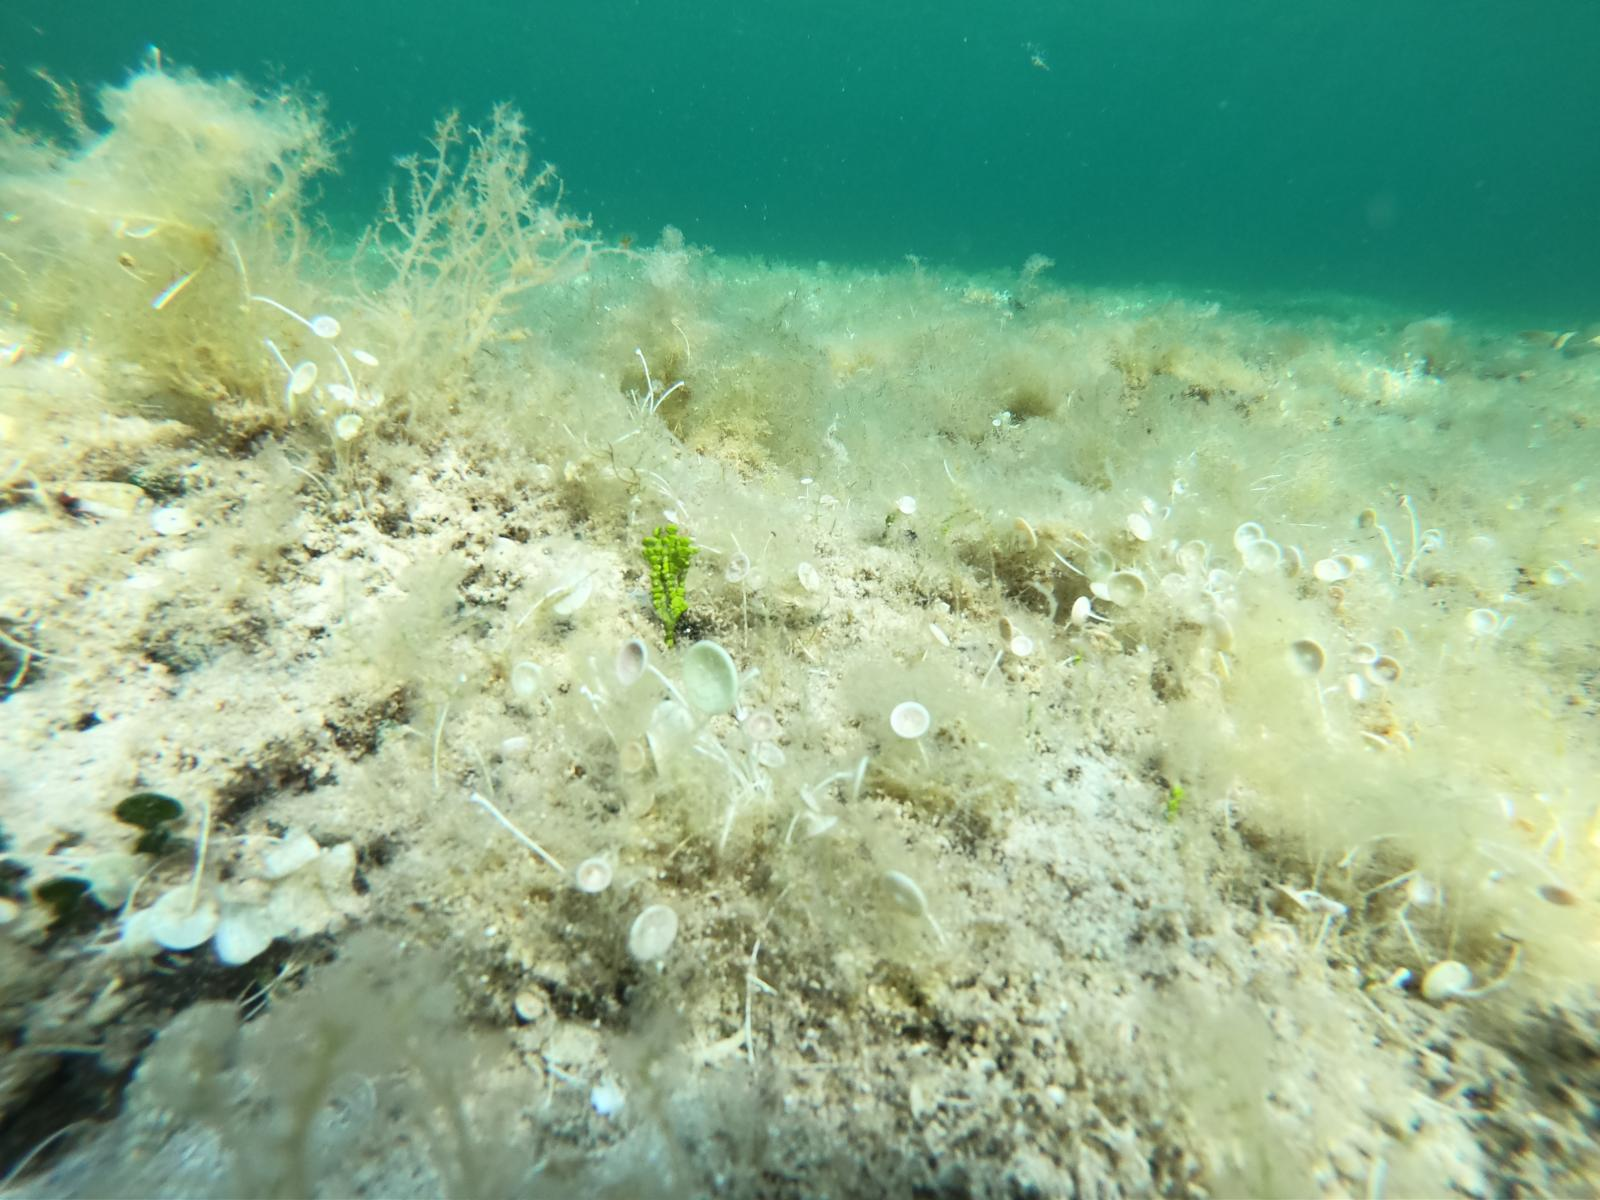halimeda: (637, 521, 699, 648)
